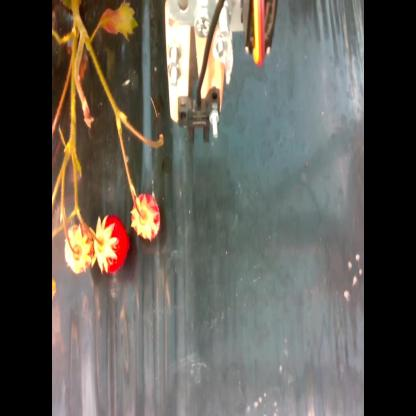ripe: (96, 216, 130, 276)
unripe: (128, 193, 161, 242), (65, 226, 94, 274)
